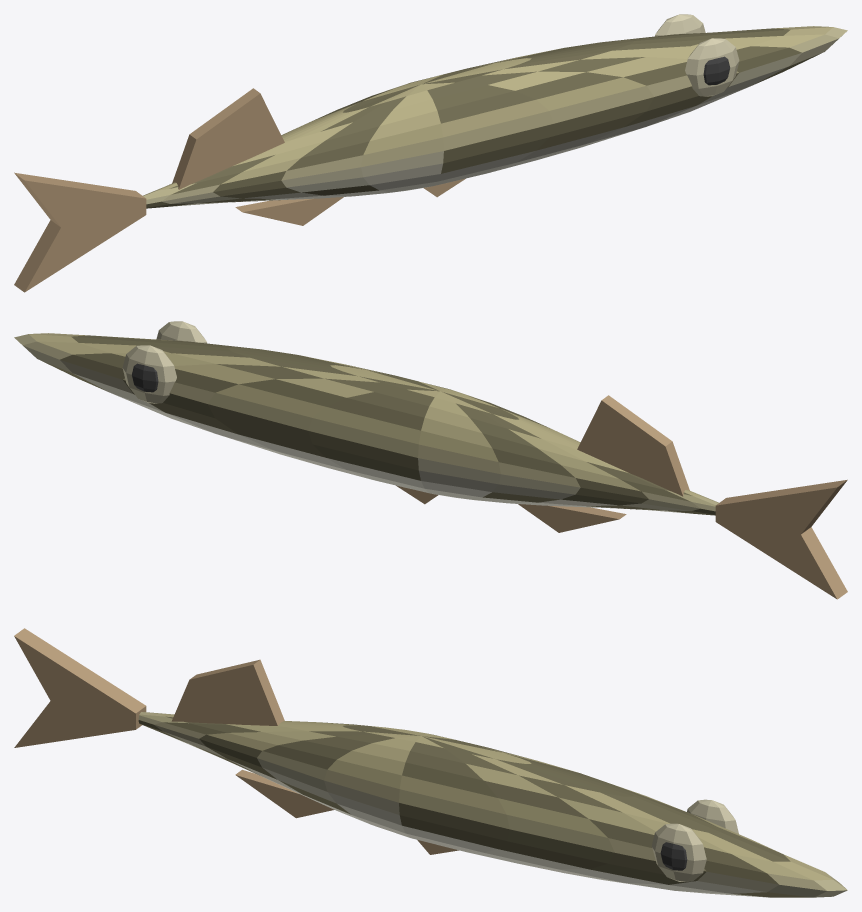
The model's file is TigerMuskie.glb.
3 renders of one model, top to bottom at view 1: azimuth 30°, elevation 25°; view 2: azimuth 150°, elevation 25°; view 3: azimuth 330°, elevation 25°, orthographic.
Visible parts, largest first — view 1: TigerMuskie; view 2: TigerMuskie; view 3: TigerMuskie.
Boxes of the visible parts, <box> form: TigerMuskie: <box>14,14,847,292</box>; TigerMuskie: <box>14,321,847,599</box>; TigerMuskie: <box>14,628,847,897</box>.
Bounding box in the file's own units: 12.47 × 2.12 × 1.24.
